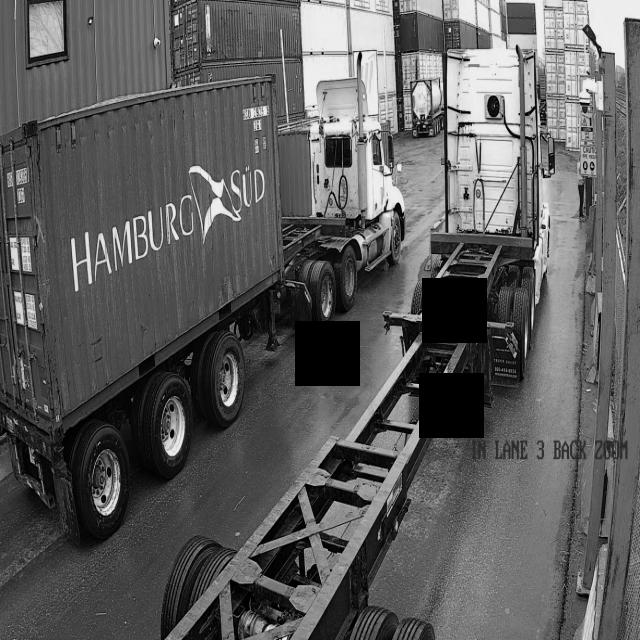container_company_logo: (66, 147, 269, 306)
truck_with_container: (0, 75, 406, 543)
truck_without_container: (160, 49, 554, 640)
